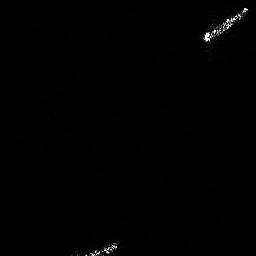ship: (202, 1, 252, 42), (69, 240, 118, 256)
